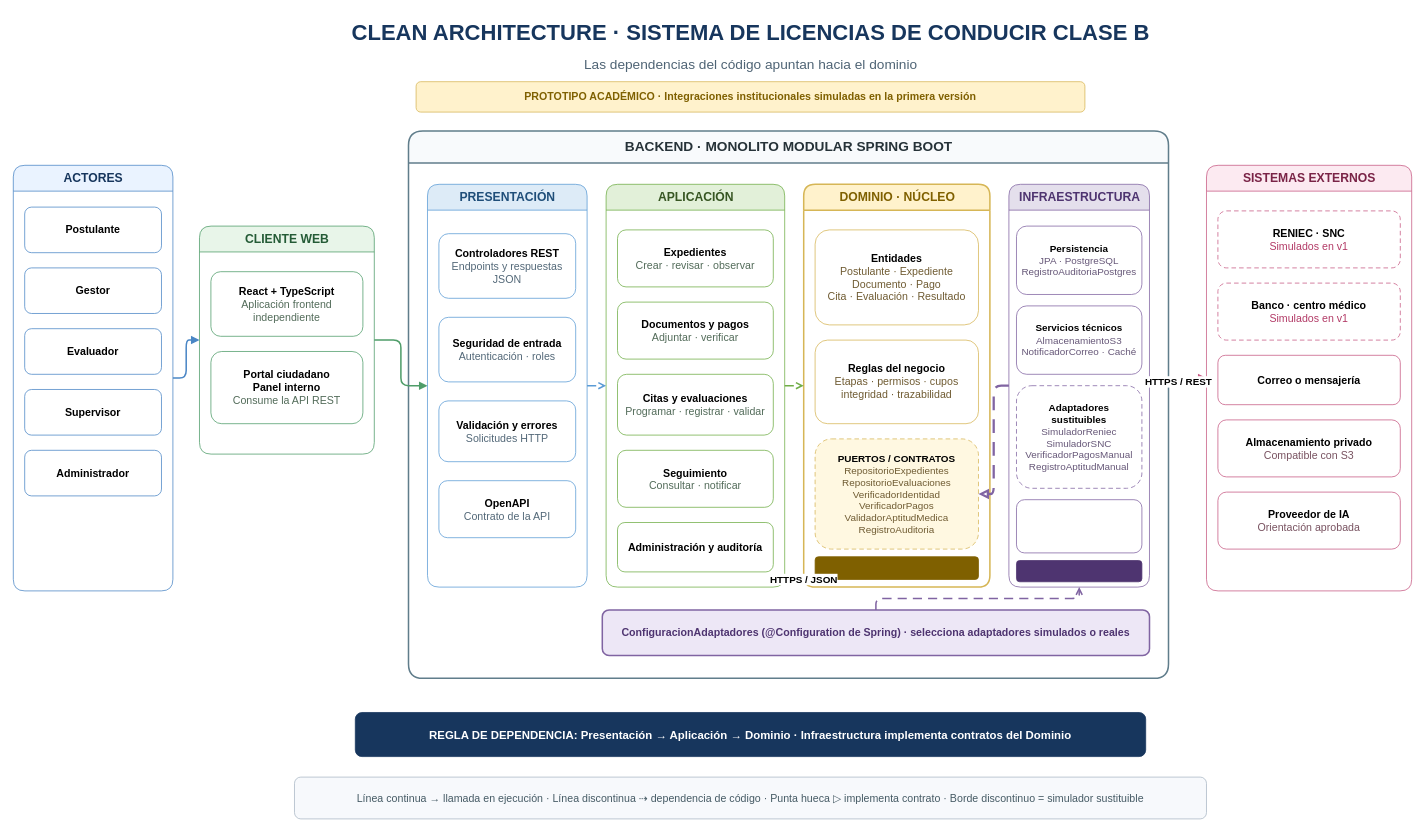
The diagram is 1425 pixels wide and 832 high, and some of its shapes have lost their labels. The shapes that lost their labels are listed below. From the top down, each one's centre as x and y in pixels, then its label:
At pixel 1079 526: "Asistente IA Orientación controlada".
At pixel 896 568: "Sin dependencias tecnológicas".
At pixel 1079 571: "Implementa los puertos".
